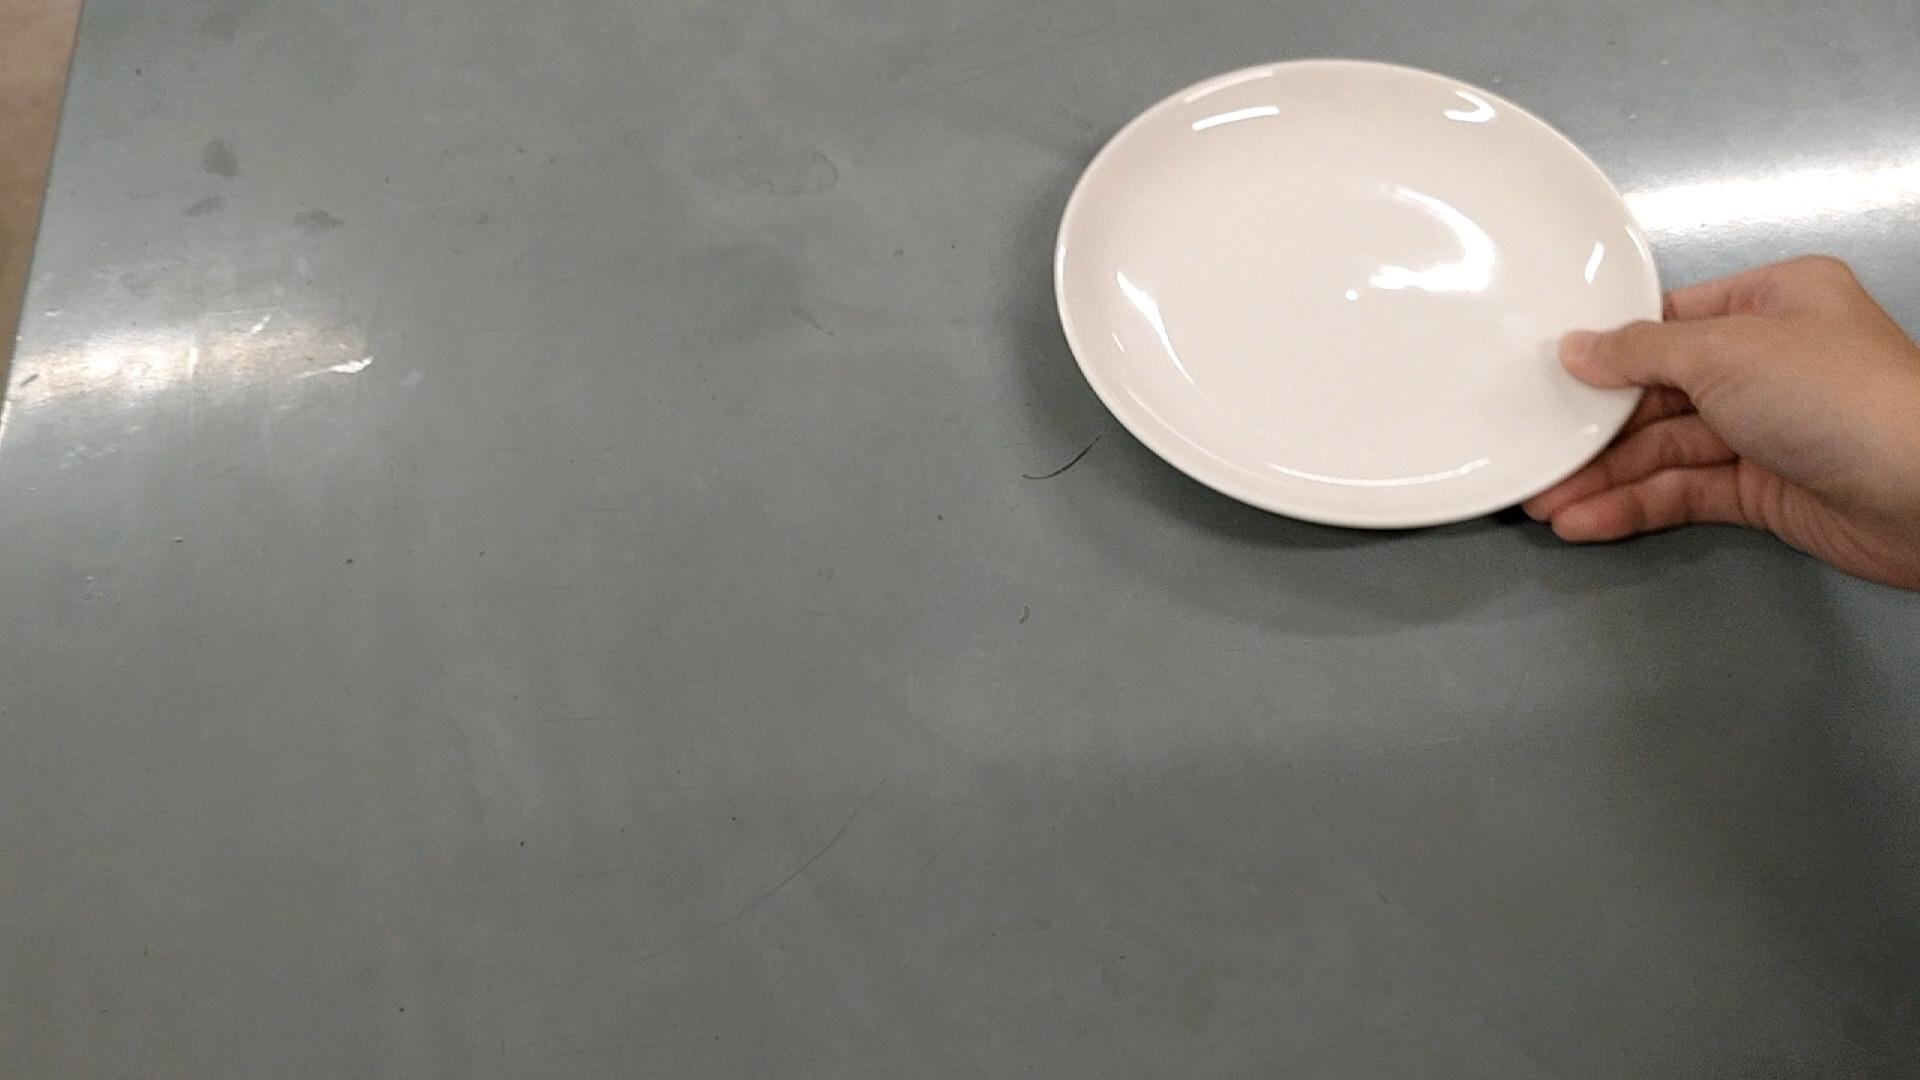plate: (1051, 55, 1665, 524)
